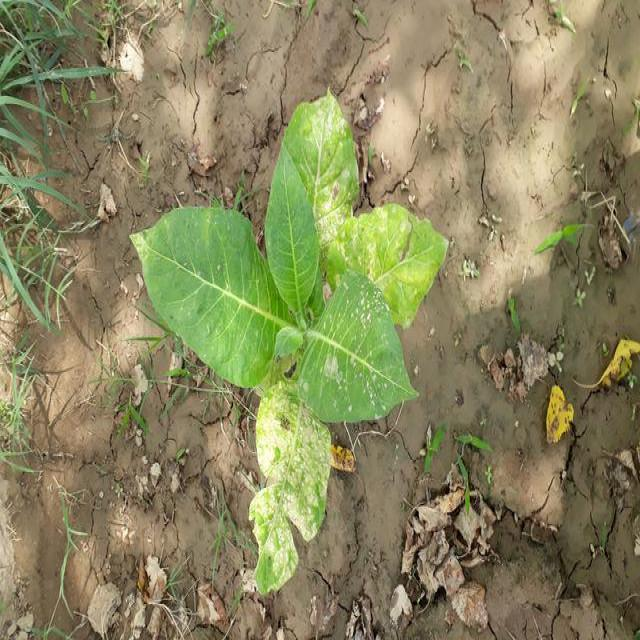crop: (127, 89, 452, 600)
